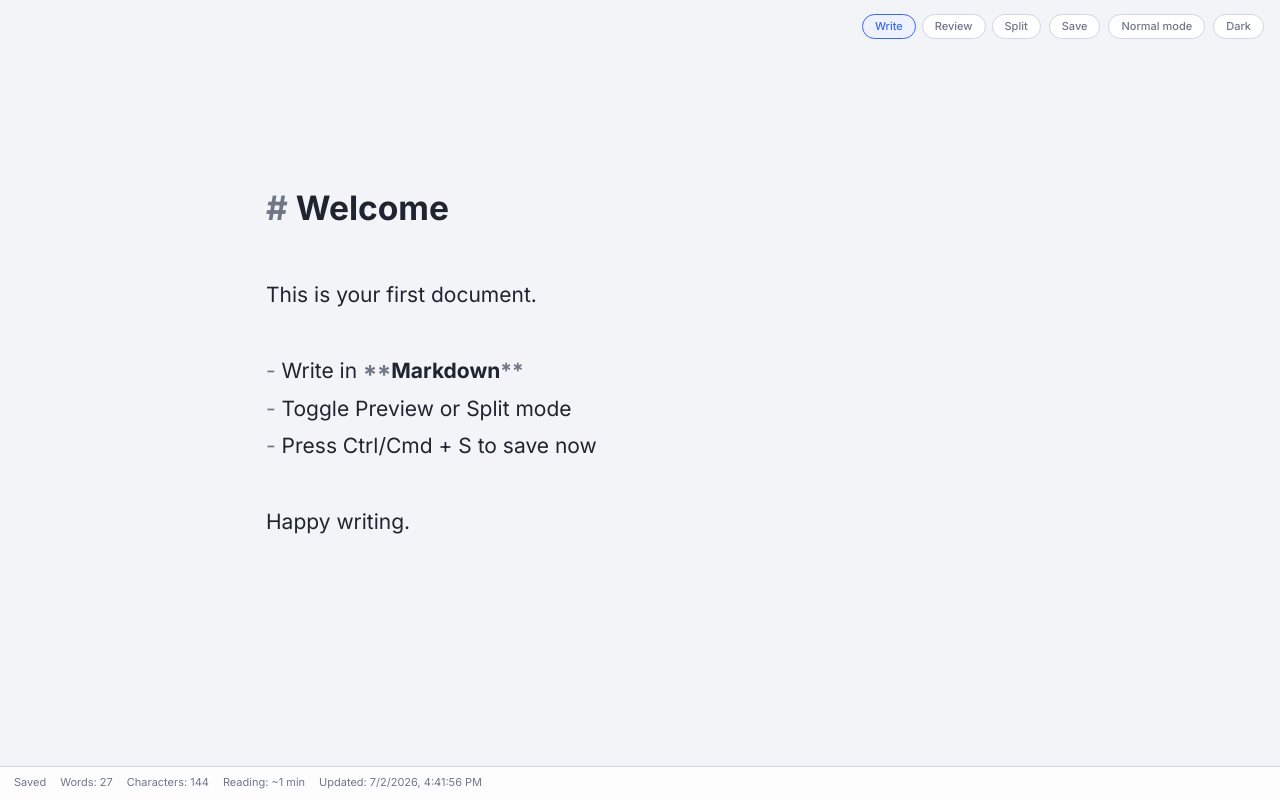
Test: App — focus mode toggle › shows sidebar after exiting focus mode
What coordinates should you click on to do the following:
click the button "Normal mode"
I would click on:
 (1157, 26)
Its box is [1108,14,1205,39].
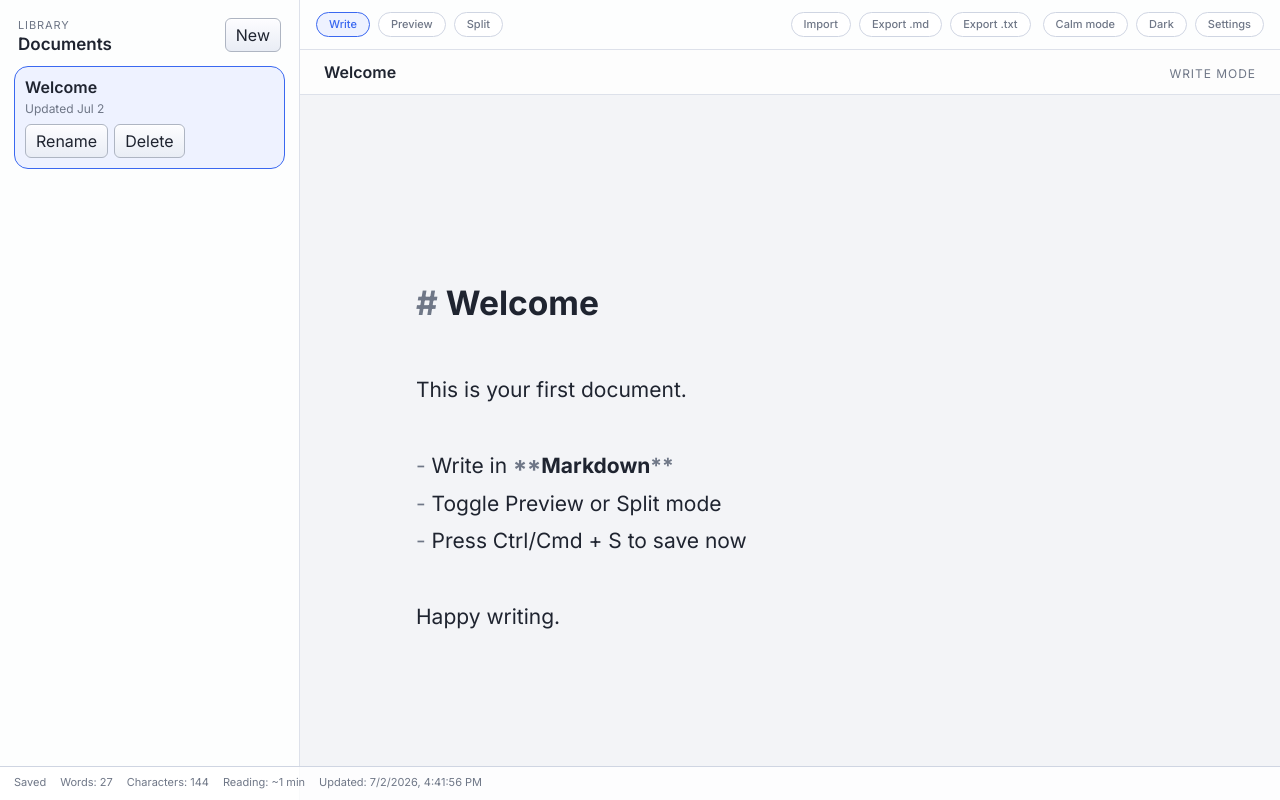
Expected: the heading "Documents" is shown, [18,34,112,54]
